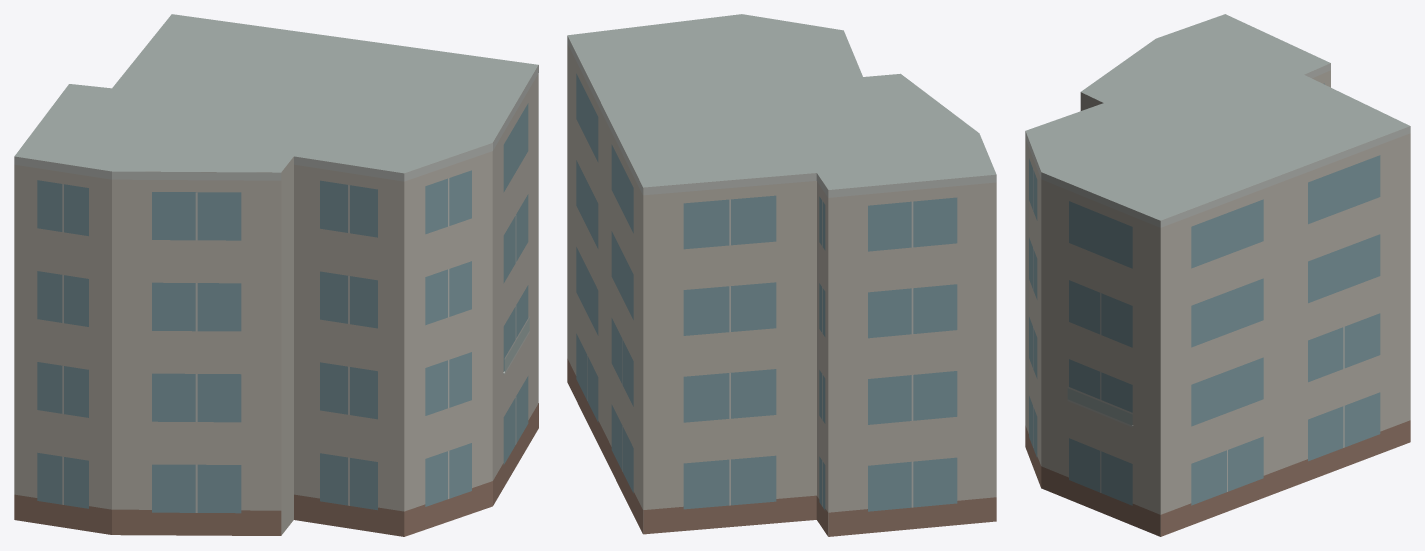
File: survey-upis-32891255.glb
3 views of the same model, side by side, from view 1: azimuth 30°, elevation 25°; view 2: azimuth 150°, elevation 25°; view 3: azimuth 270°, elevation 25° (orthographic). The views are drawn at different scales.
Parts seen in each view (by area): view 1: survey-upis-32891255.tmp; view 2: survey-upis-32891255.tmp; view 3: survey-upis-32891255.tmp.
Boxes of the visible parts, x1,y1,x2,y2 form: survey-upis-32891255.tmp: (14, 14, 538, 536); survey-upis-32891255.tmp: (567, 14, 996, 536); survey-upis-32891255.tmp: (1025, 14, 1410, 536).
Size of the model in its own units: 15.16 by 10.8 by 11.93.
